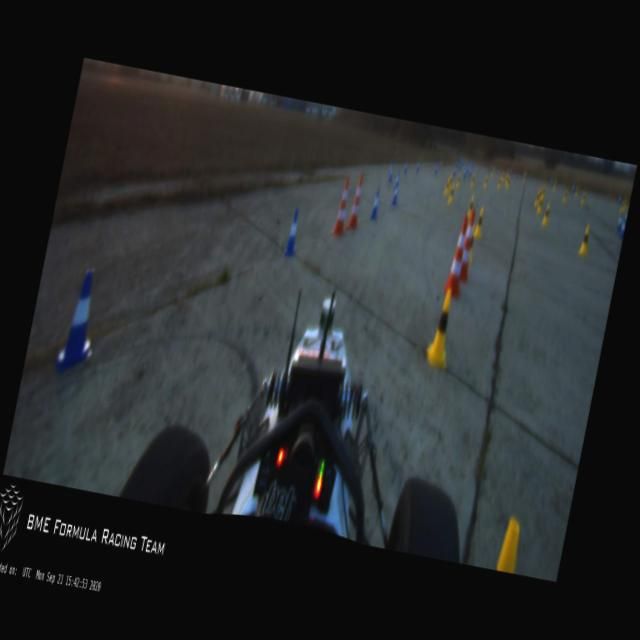blue_cone: (54, 267, 108, 378), (284, 210, 302, 257), (370, 190, 382, 220), (392, 183, 401, 206), (618, 218, 626, 240), (388, 164, 396, 184), (616, 214, 623, 232), (394, 172, 401, 188), (416, 160, 421, 172), (463, 167, 468, 178), (452, 168, 457, 178), (404, 162, 408, 174), (468, 166, 472, 177), (434, 165, 438, 175)
large_orange_cone: (443, 214, 474, 296), (457, 210, 481, 282), (331, 177, 355, 237), (347, 175, 368, 230)
yellow_cone: (424, 286, 462, 371), (466, 223, 479, 266), (578, 224, 593, 256), (474, 206, 486, 238), (542, 202, 552, 228), (536, 193, 545, 216), (448, 183, 457, 205), (466, 196, 474, 219), (533, 190, 541, 208), (444, 178, 451, 197), (540, 186, 546, 202), (448, 174, 453, 192), (456, 173, 462, 188), (563, 188, 569, 202), (580, 192, 586, 206), (471, 173, 476, 188), (484, 175, 489, 190), (574, 186, 580, 197), (497, 178, 502, 190), (501, 172, 506, 184), (506, 178, 511, 190), (504, 174, 508, 187), (491, 167, 495, 179), (538, 188, 542, 200), (523, 173, 527, 182)
